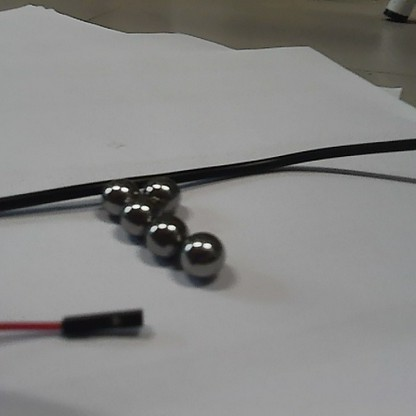ironball: (180, 228, 227, 281), (93, 170, 141, 215), (136, 170, 185, 210), (147, 215, 184, 257), (120, 199, 158, 236)
